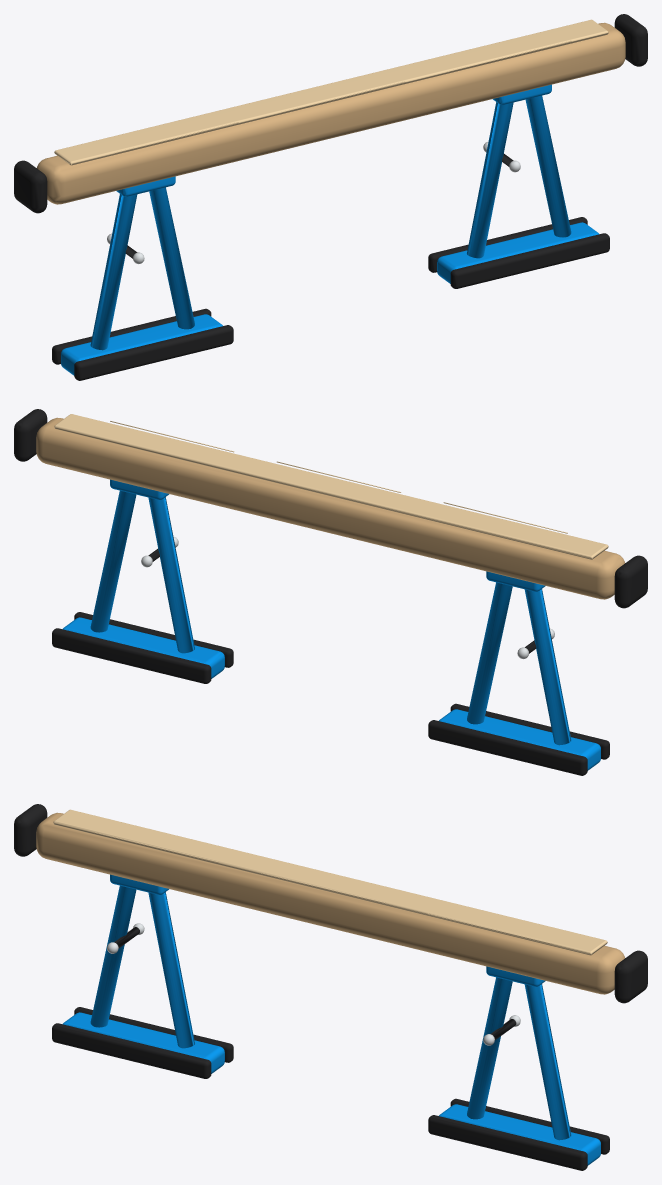
File: Schwebebalken_3D.glb
The picture shows the model from 3 angles, top to bottom: view 1: azimuth 30°, elevation 25°; view 2: azimuth 150°, elevation 25°; view 3: azimuth 330°, elevation 25°; orthographic projection.
Parts seen in each view (by area): view 1: Schwebebalken_3D__web_tan_suede_padded_balance_beam_top, Schwebebalken_3D__web_glossy_blue_balance_beam_steel_support, Schwebebalken_3D__web_black_rubber_balance_beam_end_caps_and, Schwebebalken_3D__web_pale_worn_highlight_on_balance_beam_to; view 2: Schwebebalken_3D__web_tan_suede_padded_balance_beam_top, Schwebebalken_3D__web_glossy_blue_balance_beam_steel_support, Schwebebalken_3D__web_pale_worn_highlight_on_balance_beam_to, Schwebebalken_3D__web_black_rubber_balance_beam_end_caps_and; view 3: Schwebebalken_3D__web_tan_suede_padded_balance_beam_top, Schwebebalken_3D__web_glossy_blue_balance_beam_steel_support, Schwebebalken_3D__web_black_rubber_balance_beam_end_caps_and, Schwebebalken_3D__web_pale_worn_highlight_on_balance_beam_to.
Part boxes in pixels (x1,y1,x2,y2): Schwebebalken_3D__web_tan_suede_padded_balance_beam_top: [37, 22, 625, 204]; Schwebebalken_3D__web_glossy_blue_balance_beam_steel_support: [61, 84, 599, 375]; Schwebebalken_3D__web_black_rubber_balance_beam_end_caps_and: [14, 14, 647, 380]; Schwebebalken_3D__web_pale_worn_highlight_on_balance_beam_to: [54, 19, 608, 165]; Schwebebalken_3D__web_tan_suede_padded_balance_beam_top: [36, 417, 624, 599]; Schwebebalken_3D__web_glossy_blue_balance_beam_steel_support: [62, 479, 600, 770]; Schwebebalken_3D__web_pale_worn_highlight_on_balance_beam_to: [54, 414, 608, 559]; Schwebebalken_3D__web_black_rubber_balance_beam_end_caps_and: [14, 409, 647, 775]; Schwebebalken_3D__web_tan_suede_padded_balance_beam_top: [36, 812, 624, 994]; Schwebebalken_3D__web_glossy_blue_balance_beam_steel_support: [62, 874, 600, 1165]; Schwebebalken_3D__web_black_rubber_balance_beam_end_caps_and: [14, 804, 647, 1170]; Schwebebalken_3D__web_pale_worn_highlight_on_balance_beam_to: [53, 809, 607, 955].
Size of the model in its own units: 2.88 by 0.9877 by 0.258.
